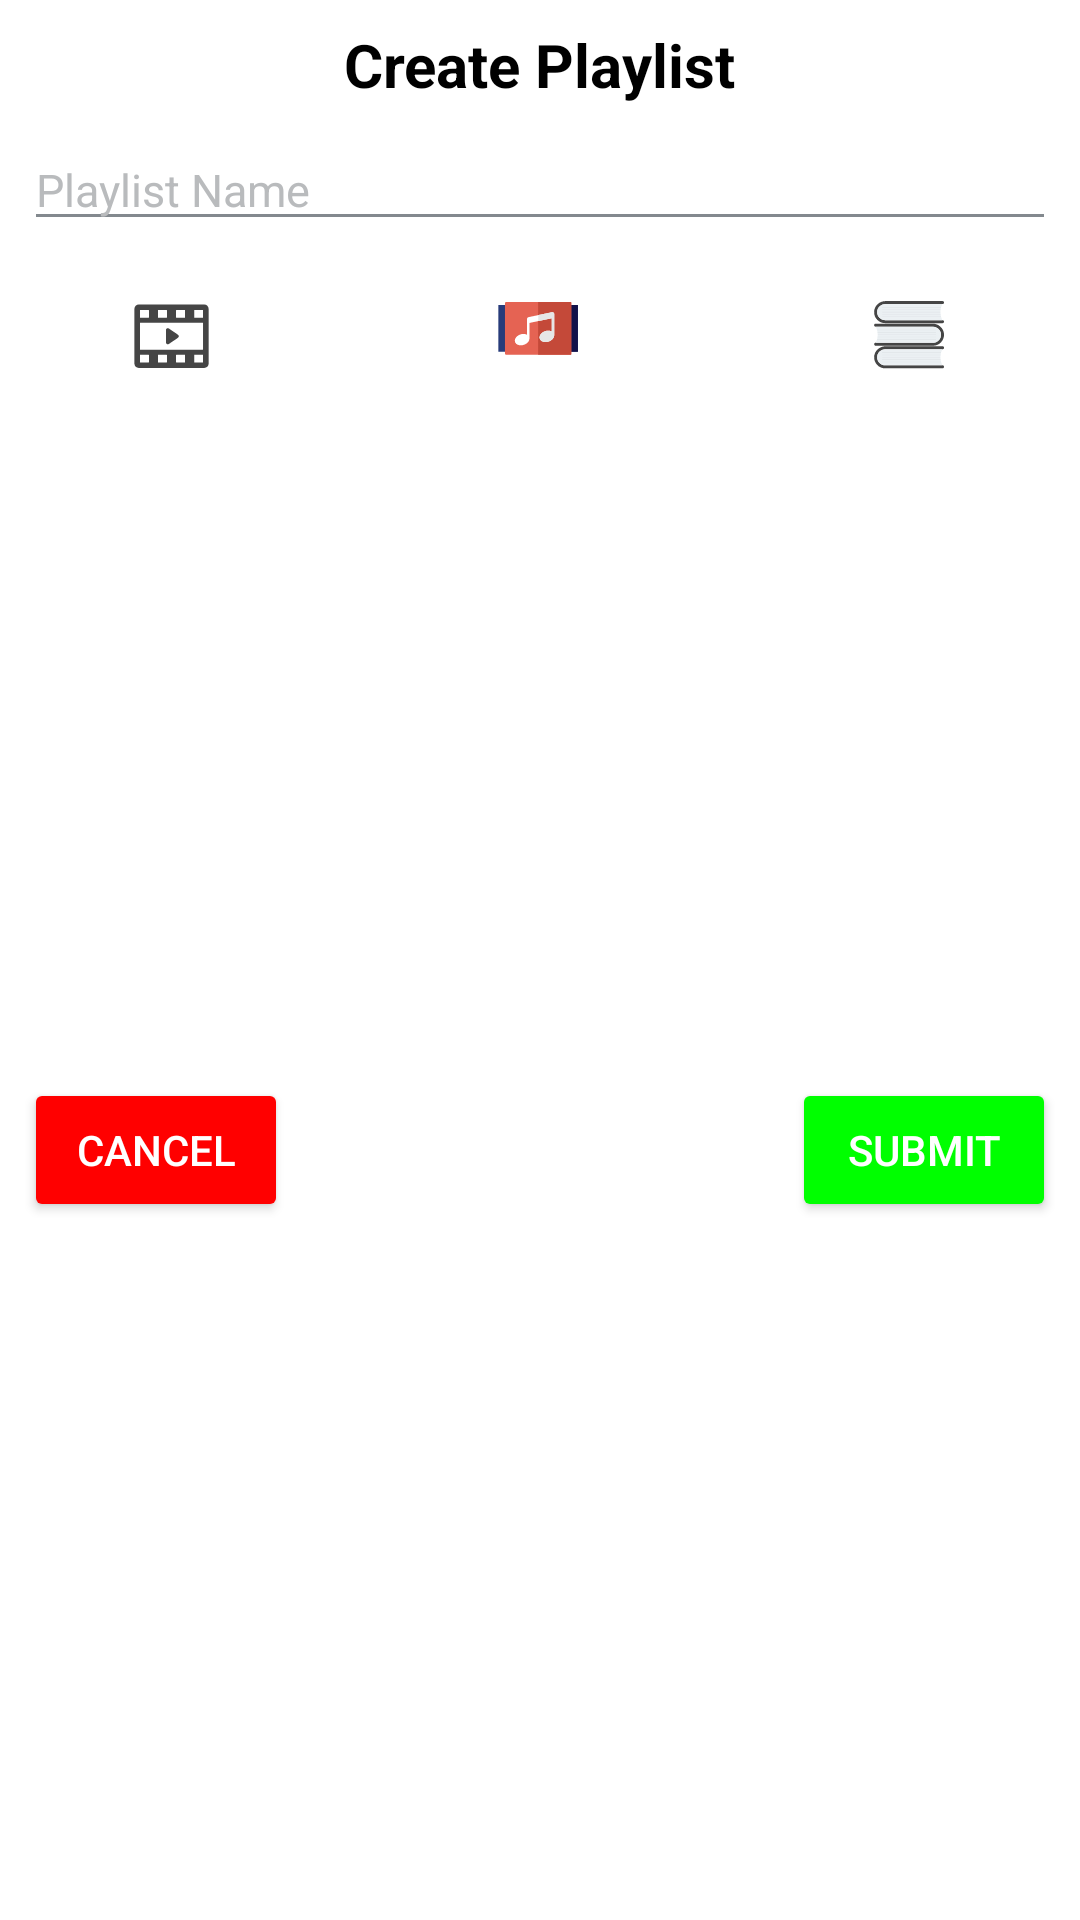

Named icons in this screenshot (1080px x 1920px) and their bounding boxes, {"left": x1, "top": y1, "right": x2, "bottom": y2}:
movies not: {"left": 134, "top": 304, "right": 209, "bottom": 368}
